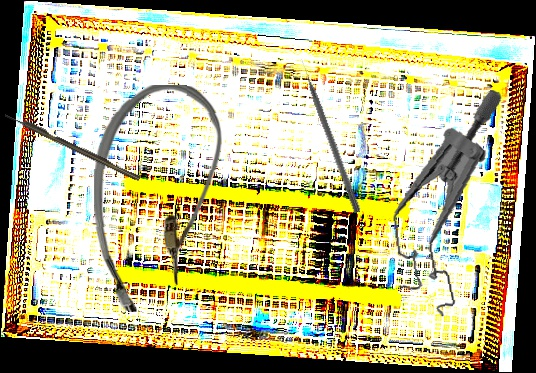Cannula: (92, 83, 223, 314)
Hook Surgical: (4, 110, 141, 183)
Pusher: (298, 57, 363, 214)
Speculum: (374, 88, 529, 323)
